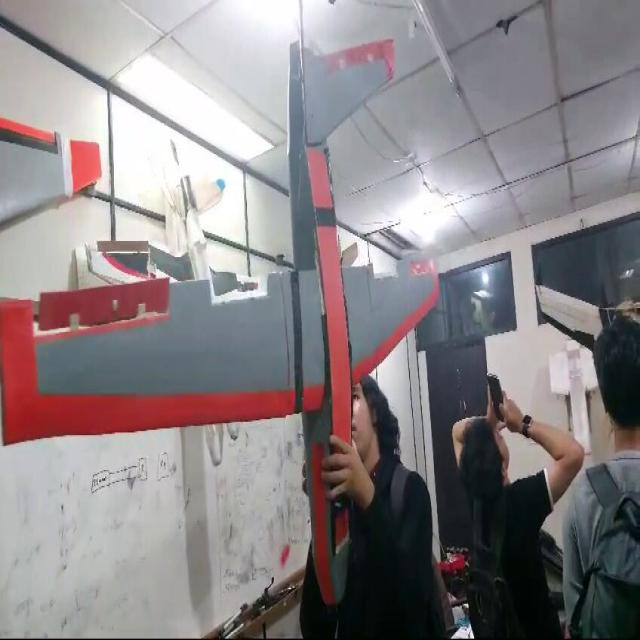plane: (0, 1, 441, 606)
